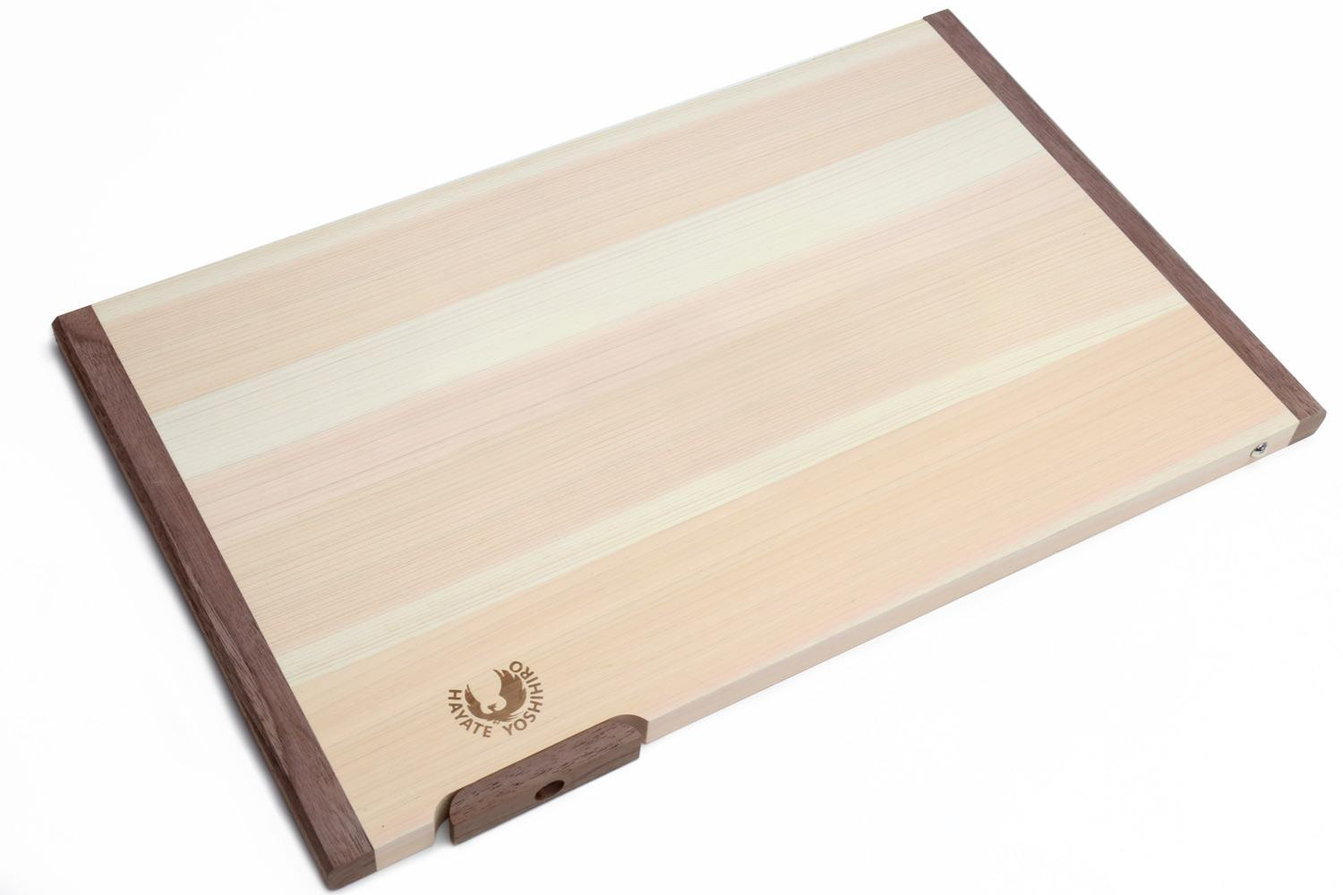gloved_hand: (56, 3, 1338, 895)
